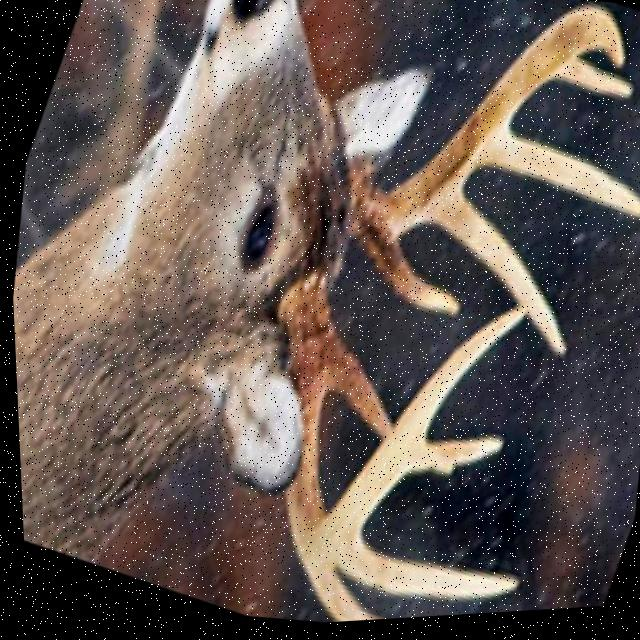L-F: (272, 269, 523, 587)
L-G1: (323, 330, 392, 444)
L-G2: (304, 570, 385, 626)
L-G3: (330, 531, 518, 609)
L-G4: (396, 433, 506, 483)
R-G1: (360, 240, 462, 323)
R-G2: (416, 186, 566, 365)
R-G3: (474, 128, 640, 226)
R-G4: (546, 62, 637, 109)
